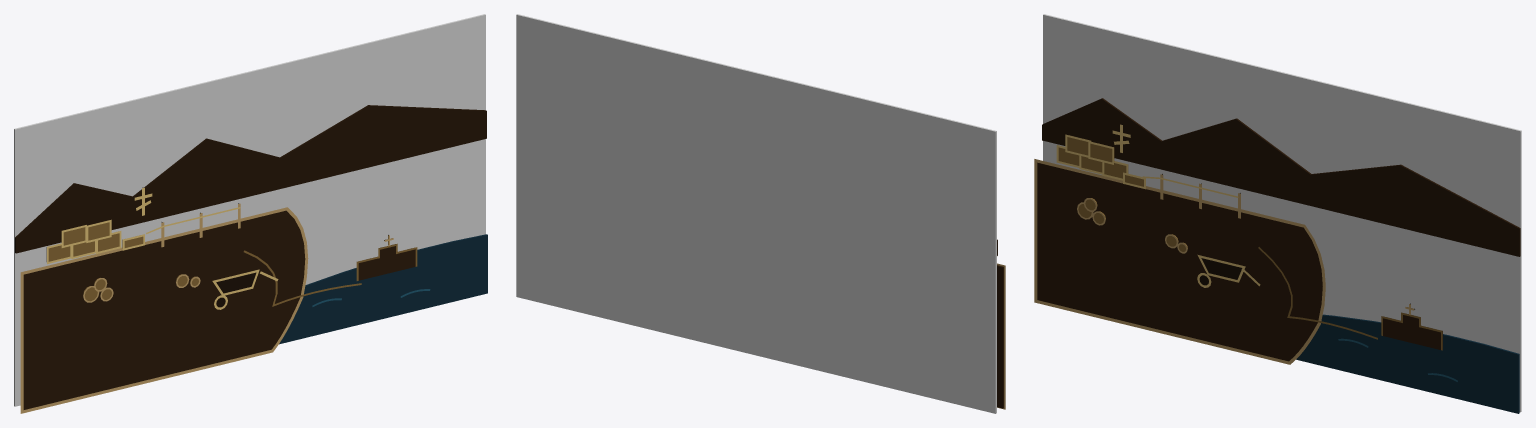
Rendered from loc-verhnyaya-terrasa.glb.
3 views of the same model, side by side, from view 1: azimuth 30°, elevation 25°; view 2: azimuth 150°, elevation 25°; view 3: azimuth 330°, elevation 25° (orthographic).
Parts seen in each view (by area): view 1: loc-verhnyaya-terrasa; view 2: loc-verhnyaya-terrasa; view 3: loc-verhnyaya-terrasa.
Boxes of the visible parts, box(x1,y1,x2,y2) form: loc-verhnyaya-terrasa: box(14, 14, 487, 413); loc-verhnyaya-terrasa: box(516, 14, 1005, 413); loc-verhnyaya-terrasa: box(1034, 14, 1521, 413).
Size of the model in its own units: 5.35 by 3.02 by 0.521.
